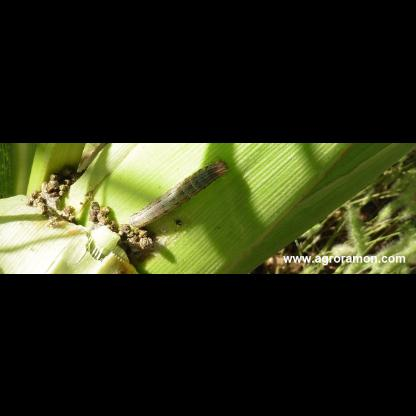agujero: (121, 156, 233, 226)
